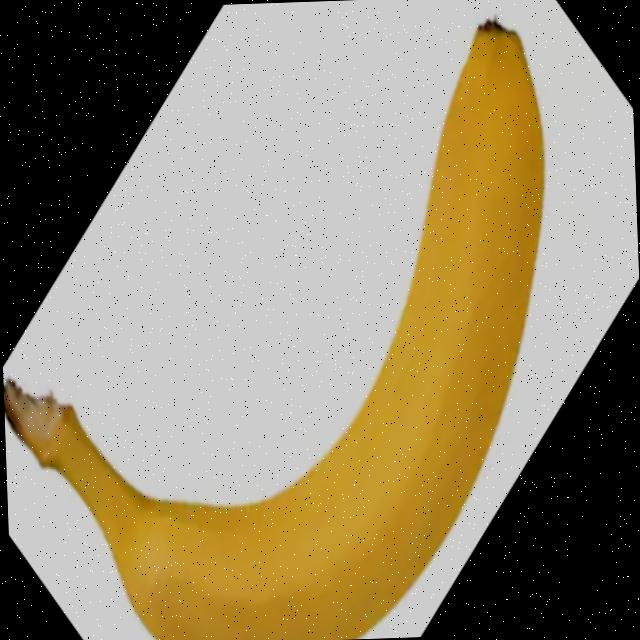banana: (0, 20, 562, 640)
